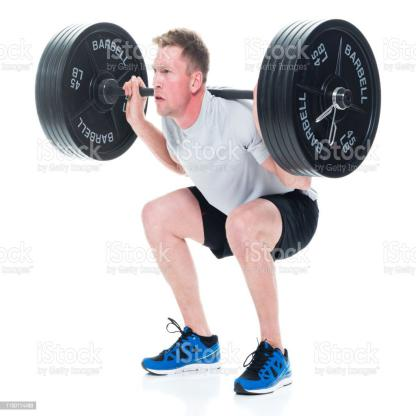Barbell: (254, 12, 386, 182)
